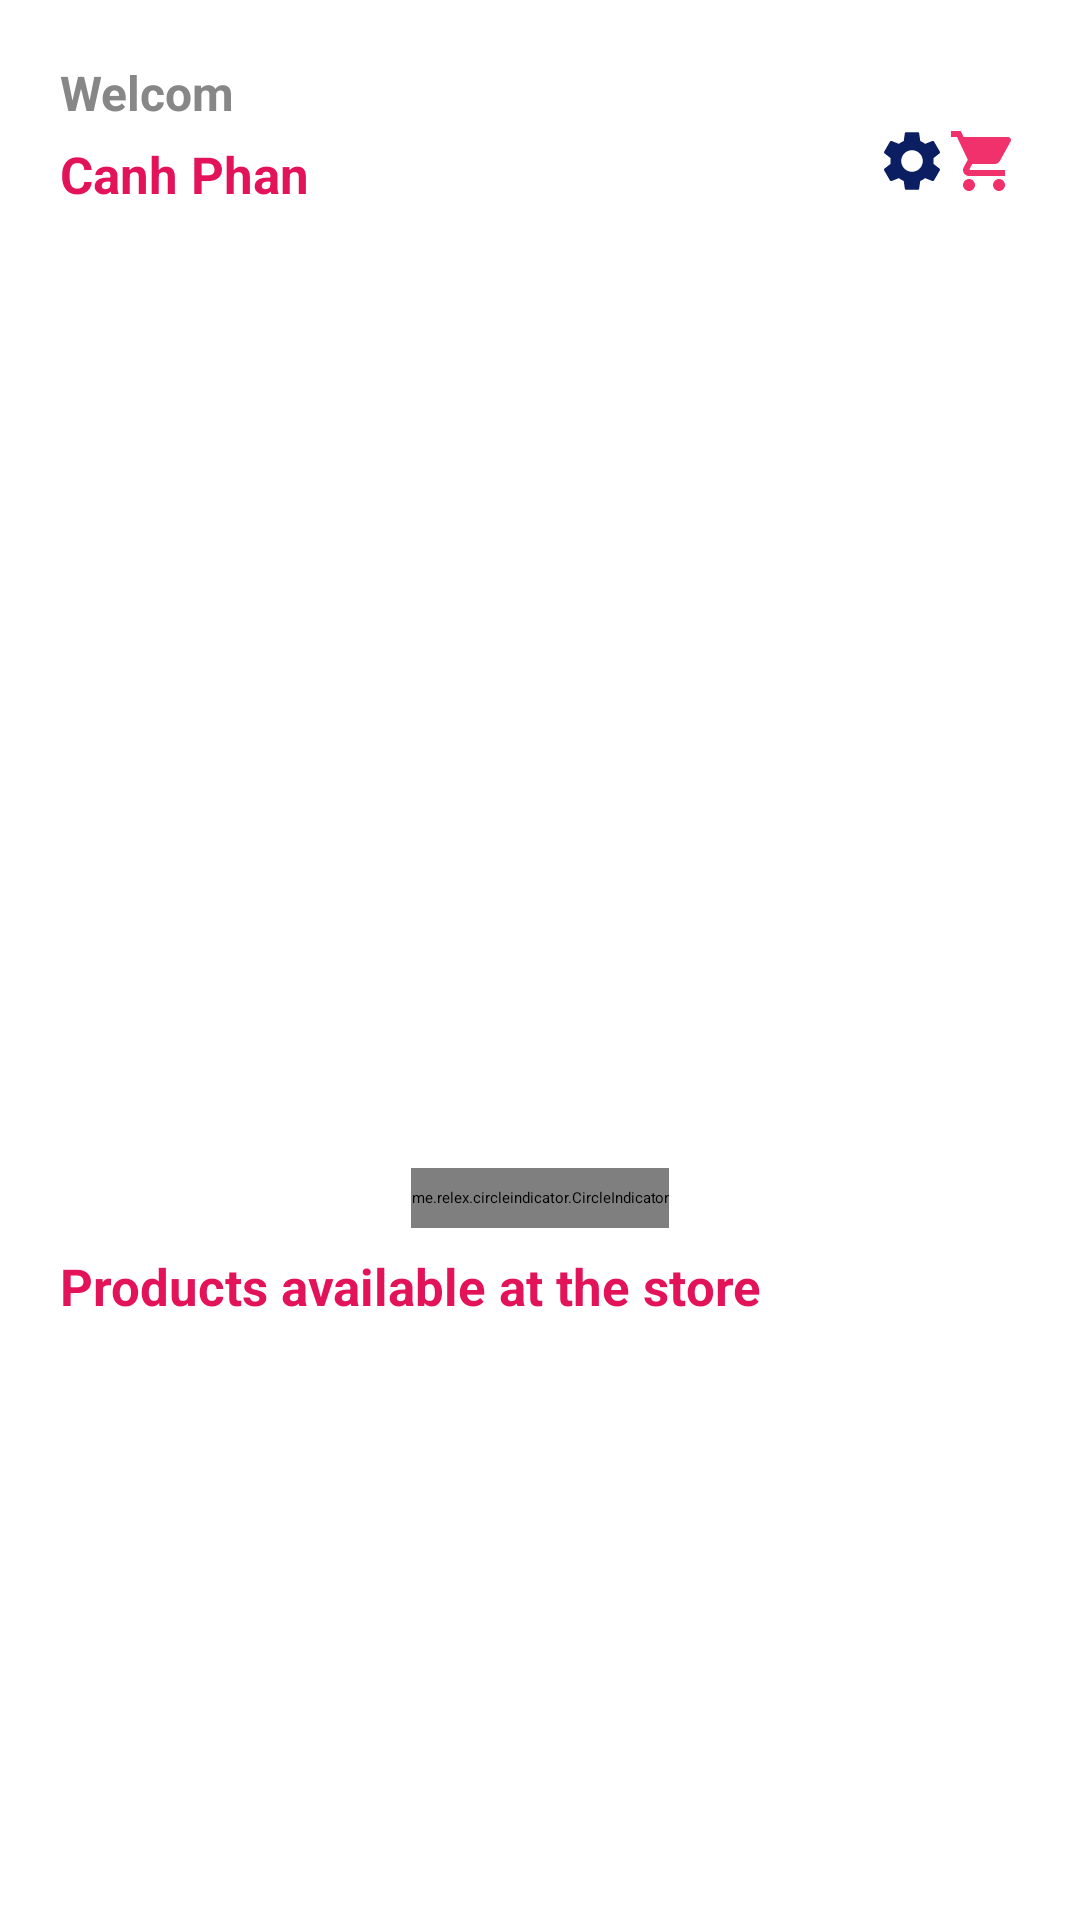

Icon bounding boxes for this 1080*1920 phone screenshot, format box=[x1, y1, x2, y2]:
giohang: box=[951, 131, 1011, 191]
setting: box=[884, 132, 940, 190]
